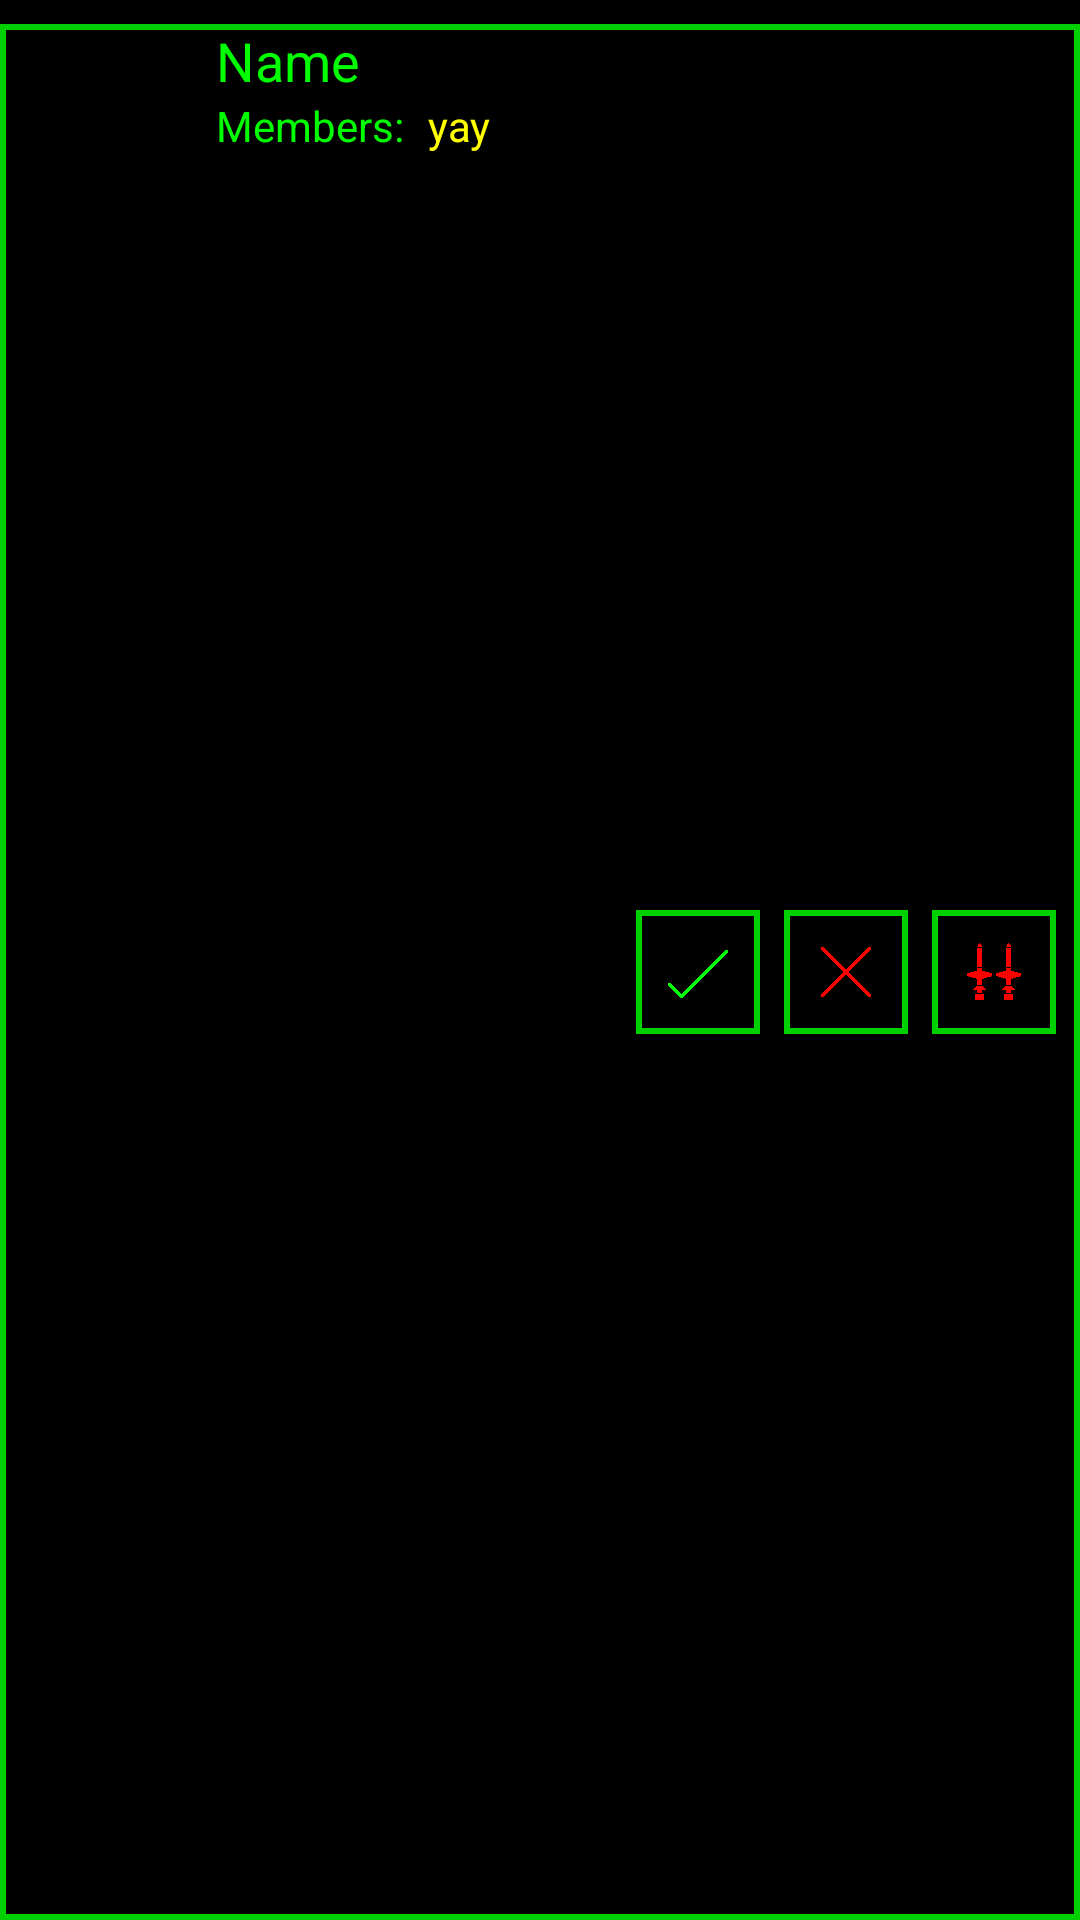

Locate icon controls on the screen. Image size 1080 × 1920, boxes as [x1=x1, y1=y1, x2=x2, y2=y2].
not ok: [x1=784, y1=910, x2=908, y2=1034]
war: [x1=932, y1=910, x2=1056, y2=1034]
